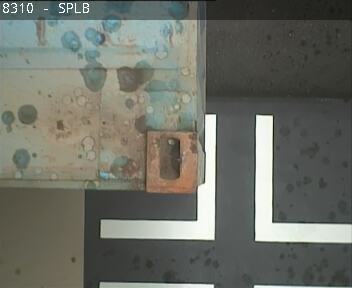groundmarker_1: (99, 113, 352, 243)
